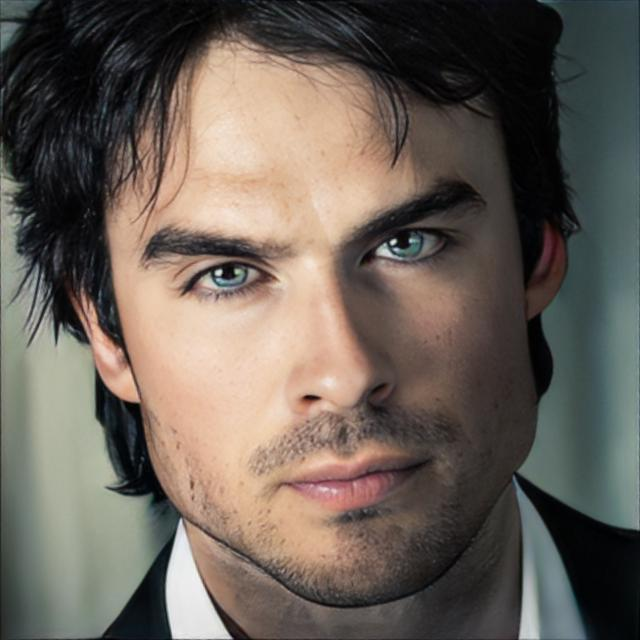anger: (121, 51, 530, 610)
